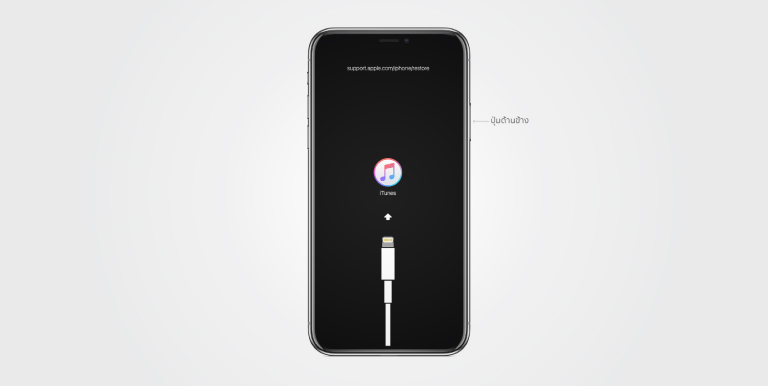Phone: (304, 24, 473, 360)
